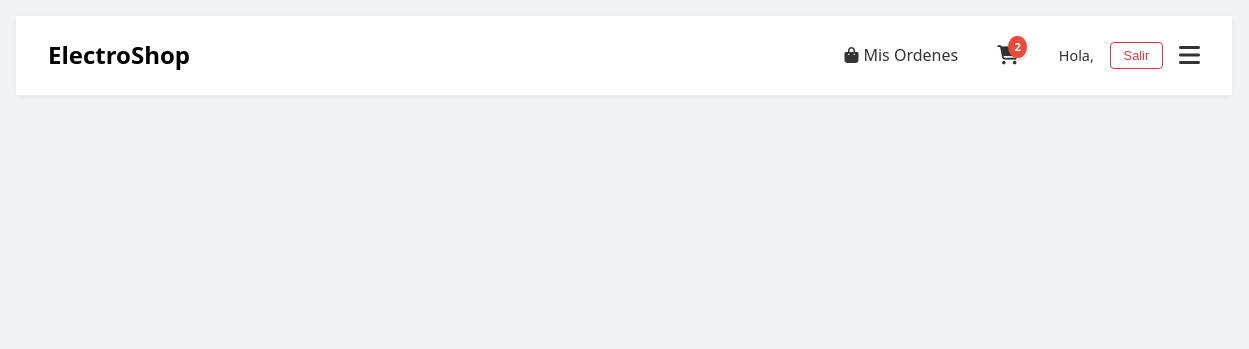
Test: Header Component › should show cart dropdown on hover
Hover over the icon with test id "cart-container": (1012, 50) 997,36 -> 1027,64
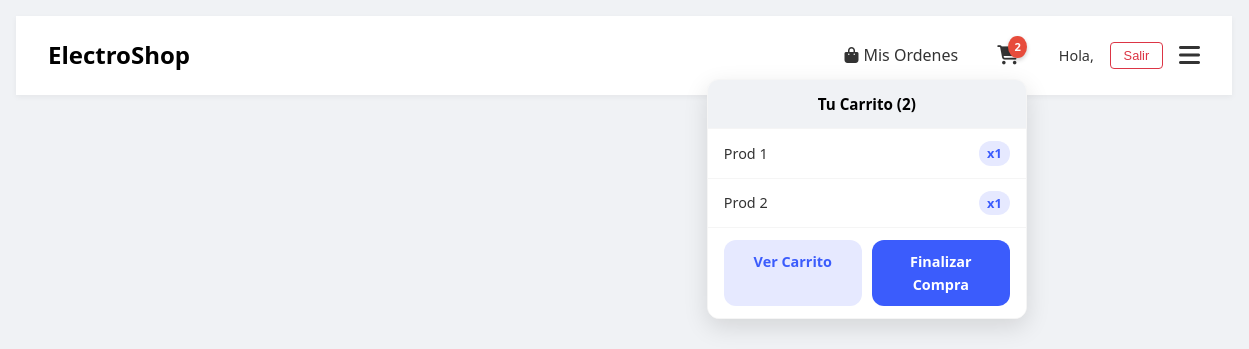
Result: the text "Tu Carrito (2)" is shown at 818,94 -> 916,114
Result: the text "Prod 1" is shown at 724,142 -> 768,165
Move the pointer off the icon with test id "cart-container", box 989,32 -> 1027,79
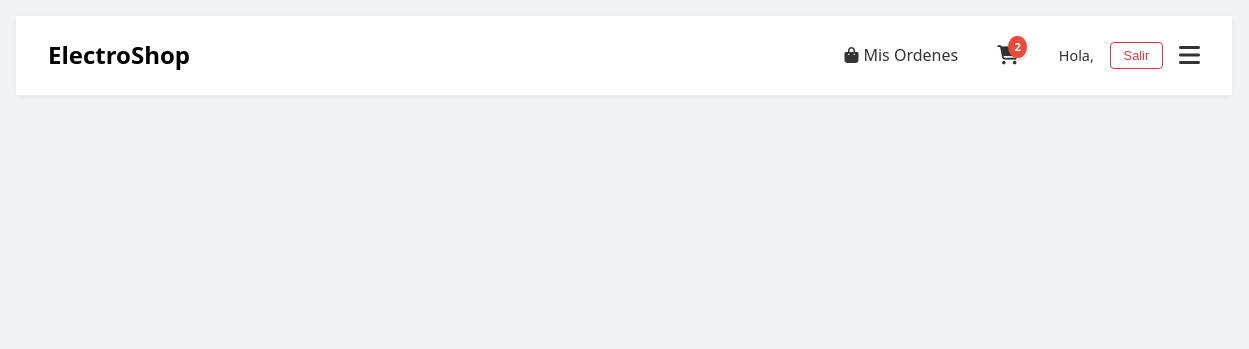
Result: the text "Tu Carrito (2)" is gone
